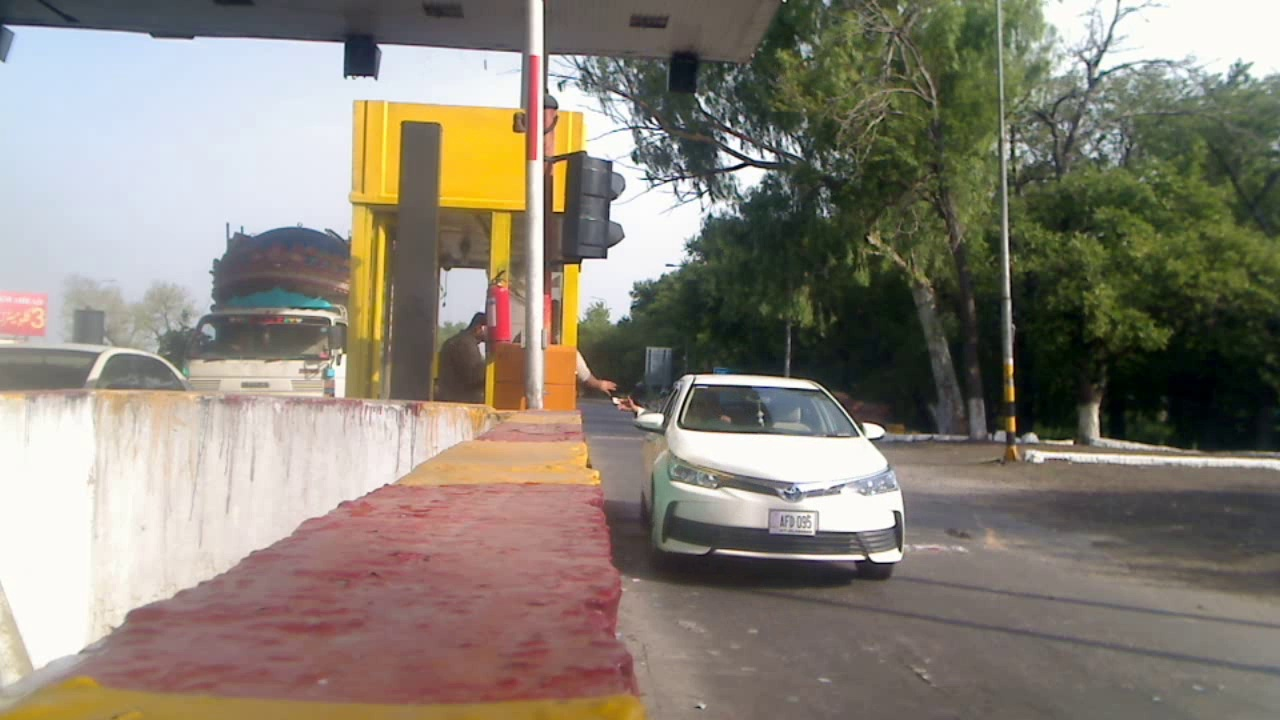Number Plate (Car): (772, 510, 818, 533)
